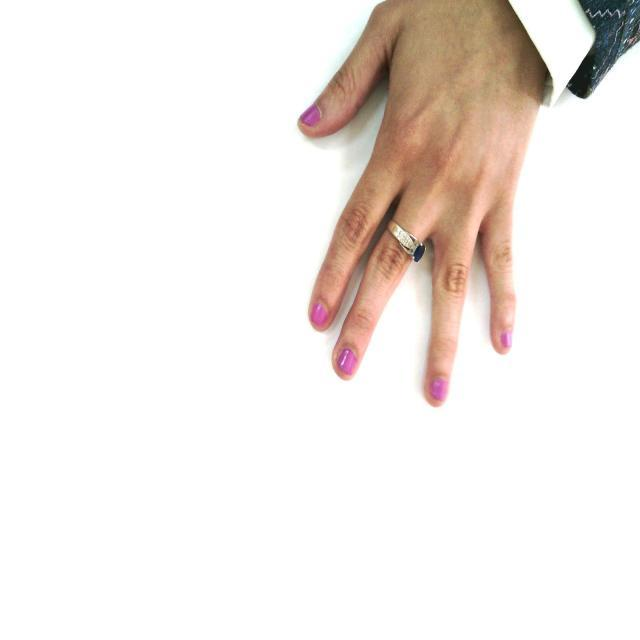Fingernail: (299, 102, 320, 125), (337, 349, 355, 374), (311, 304, 327, 328), (431, 377, 446, 399), (501, 331, 512, 350)
